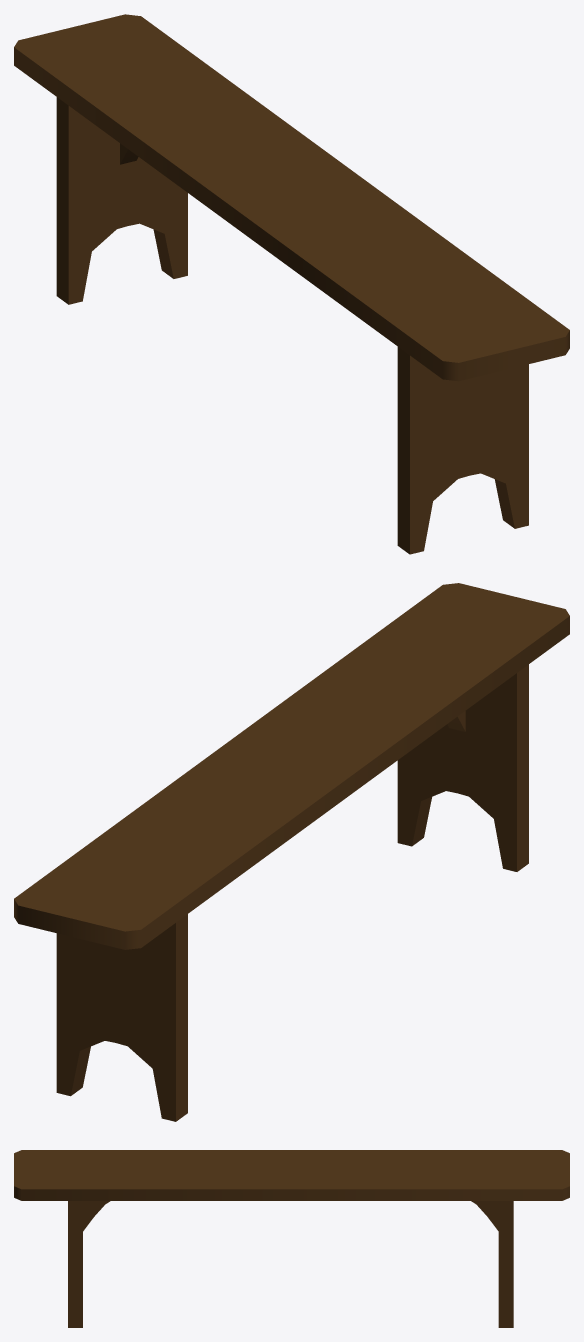
File: 6ft Bench.FBX
3 renders of one model, top to bottom at view 1: azimuth 30°, elevation 25°; view 2: azimuth 150°, elevation 25°; view 3: azimuth 270°, elevation 25°, orthographic. The views are drawn at different scales.
Parts seen in each view (by area): view 1: Box3322, Box3325, Box3323; view 2: Box3322, Box3323, Box3325; view 3: Box3322, Box3323, Box3325, Box3324, Box3326.
Part boxes in pixels (left/top/right/bottom): Box3322: left=14, top=14, right=569, bottom=381; Box3325: left=397, top=347, right=528, bottom=554; Box3323: left=56, top=97, right=187, bottom=304; Box3322: left=14, top=583, right=569, bottom=949; Box3323: left=56, top=914, right=187, bottom=1121; Box3325: left=397, top=664, right=528, bottom=871; Box3322: left=14, top=1150, right=569, bottom=1200; Box3323: left=498, top=1201, right=513, bottom=1327; Box3325: left=68, top=1201, right=82, bottom=1327; Box3324: left=471, top=1201, right=498, bottom=1230; Box3326: left=83, top=1201, right=110, bottom=1231.
Bounding box in the file's own units: 1 × 1.66 × 6.
